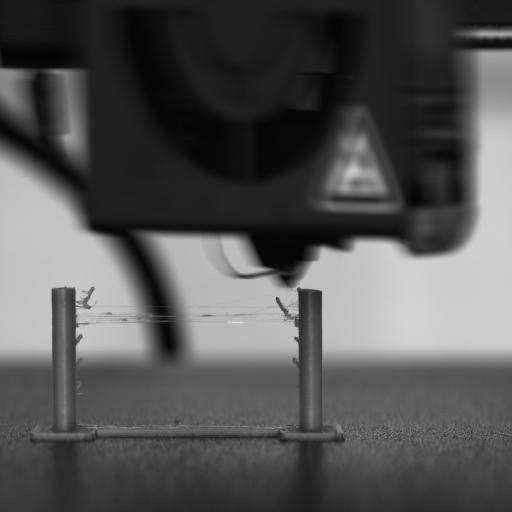spaghetti_and_stringing: (74, 302, 147, 327), (74, 283, 98, 347), (270, 294, 300, 326), (72, 354, 90, 374), (74, 374, 88, 397), (289, 353, 300, 373), (292, 332, 299, 346)
